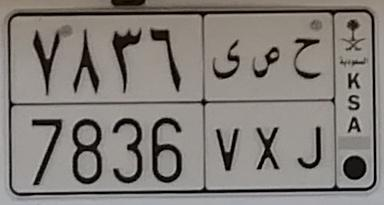3: (112, 26, 144, 184)
6: (149, 26, 185, 184)
7: (30, 30, 64, 186)
8: (72, 27, 104, 186)
J: (293, 36, 324, 169)
V: (211, 39, 242, 172)
X: (252, 45, 282, 170)
